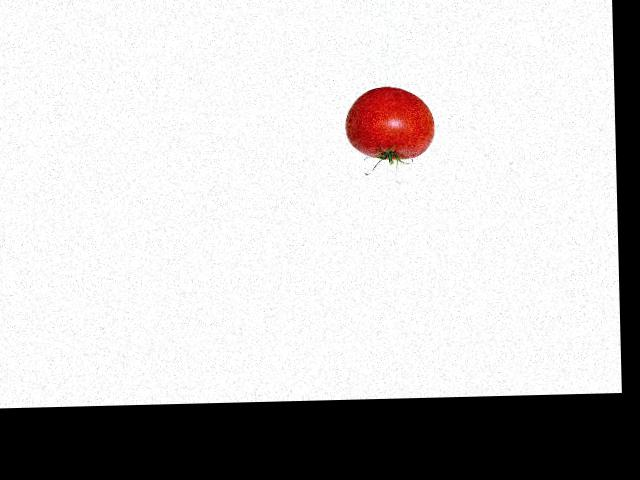tomato: (345, 86, 434, 160)
